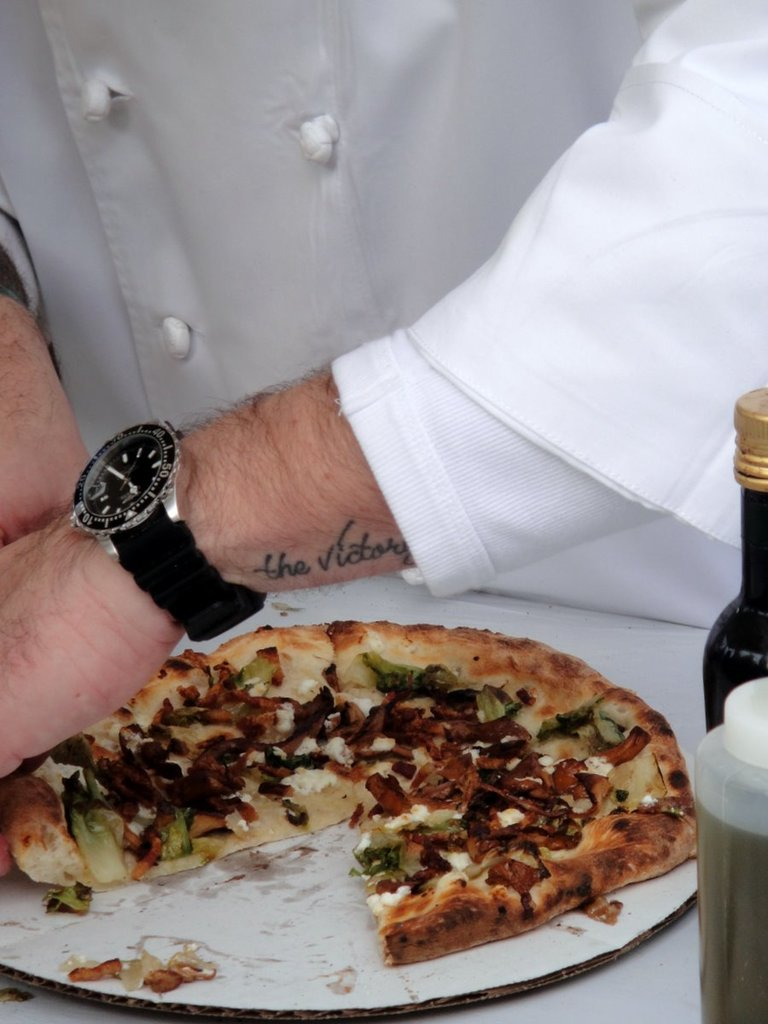Pizza: (23, 610, 717, 962)
